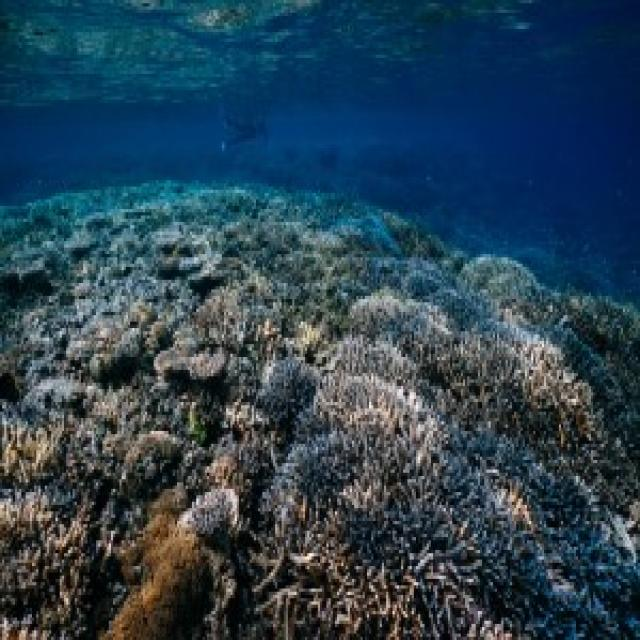Healthy: (270, 409, 551, 635), (402, 323, 637, 506), (449, 419, 639, 622), (336, 467, 543, 638), (1, 262, 195, 387), (502, 303, 639, 432), (1, 493, 116, 638), (103, 493, 212, 638), (261, 545, 421, 638), (479, 319, 600, 438), (295, 374, 453, 464), (208, 400, 283, 516), (351, 290, 458, 358), (438, 332, 532, 406), (330, 335, 432, 390), (257, 358, 317, 442), (180, 464, 240, 545), (462, 255, 539, 316), (566, 294, 639, 358), (1, 409, 63, 483), (155, 329, 229, 390), (78, 387, 144, 454), (199, 278, 259, 342), (125, 432, 182, 496)
